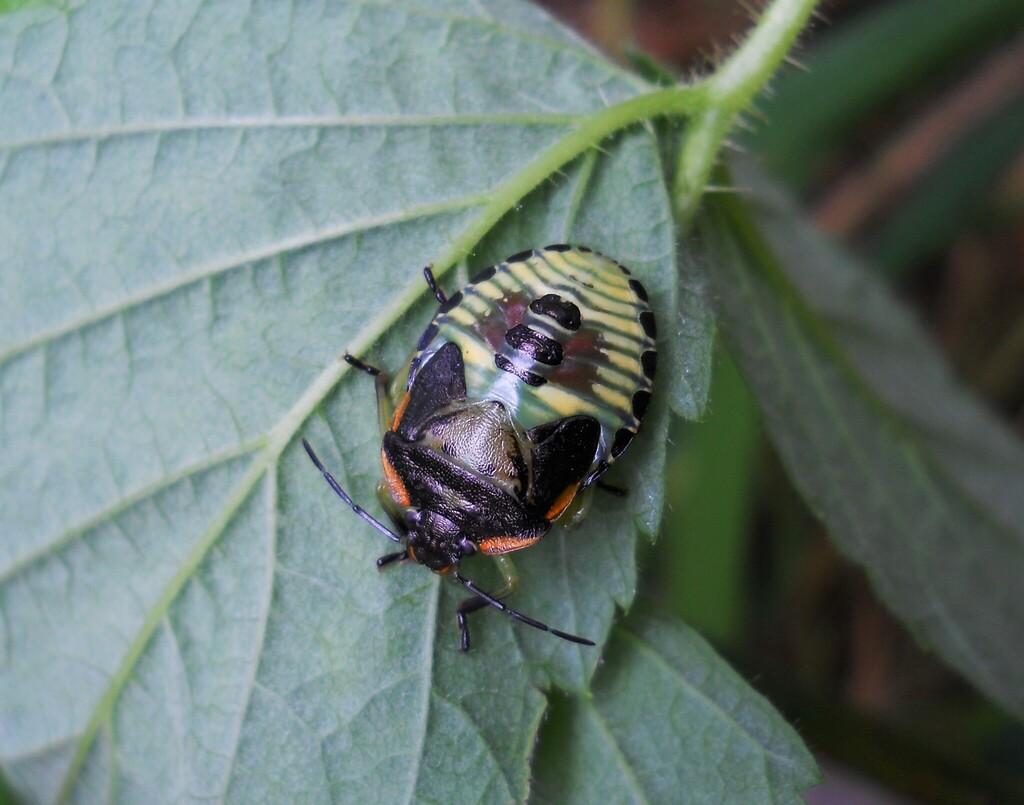stink_bugs: (266, 158, 748, 717)
